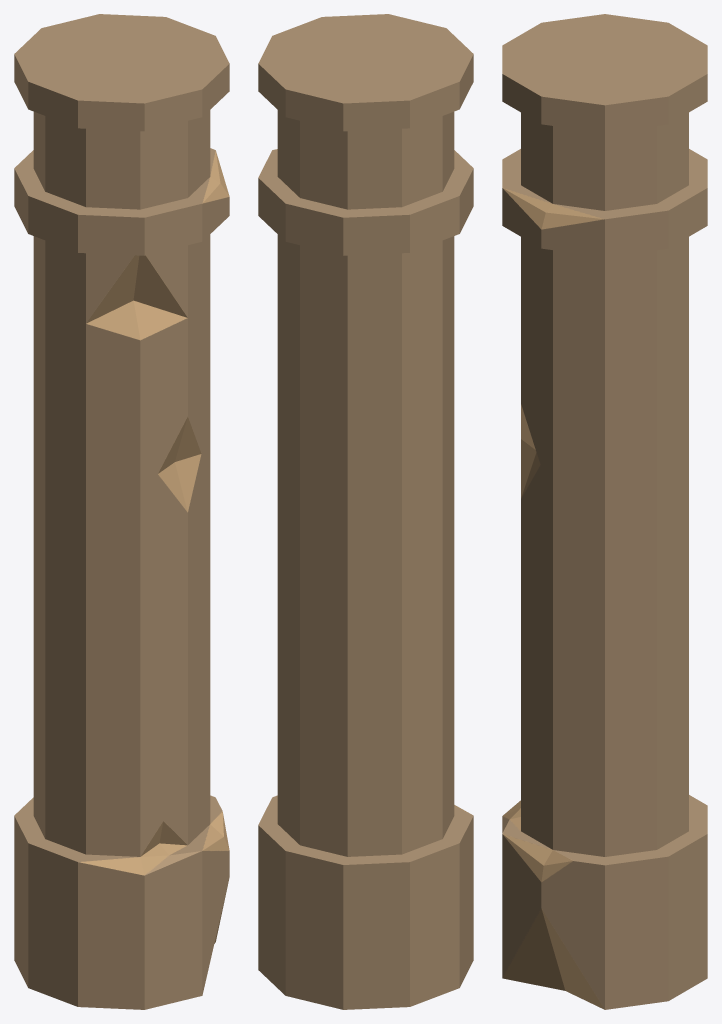
File: 3D_obstacle_column_cracks_01.fbx
3 views of the same model, side by side, from view 1: azimuth 30°, elevation 25°; view 2: azimuth 150°, elevation 25°; view 3: azimuth 270°, elevation 25° (orthographic).
Visible parts, largest first — view 1: SM_cracks_01; view 2: SM_cracks_01; view 3: SM_cracks_01.
Boxes of the visible parts, bbox=[...] form: SM_cracks_01: bbox=[14, 14, 229, 1009]; SM_cracks_01: bbox=[258, 14, 473, 1009]; SM_cracks_01: bbox=[502, 14, 707, 1009].
Bounding box in the file's own units: 84 × 388 × 79.89.
1 material, 1 textured.
